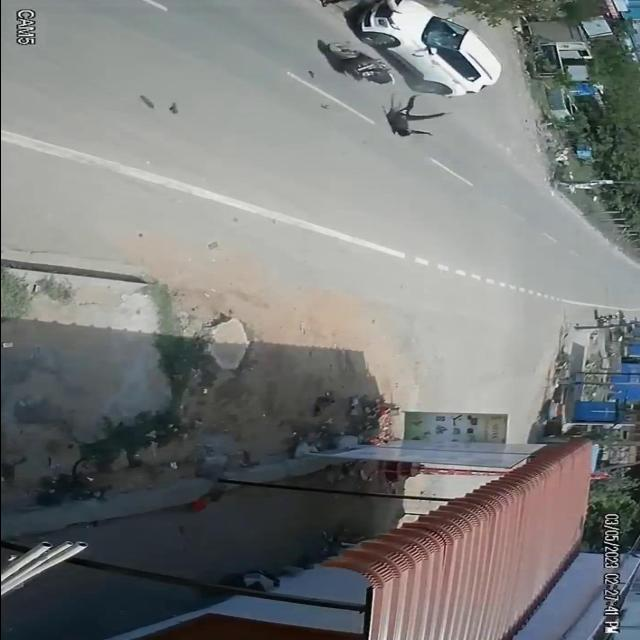accident: (308, 0, 508, 143)
